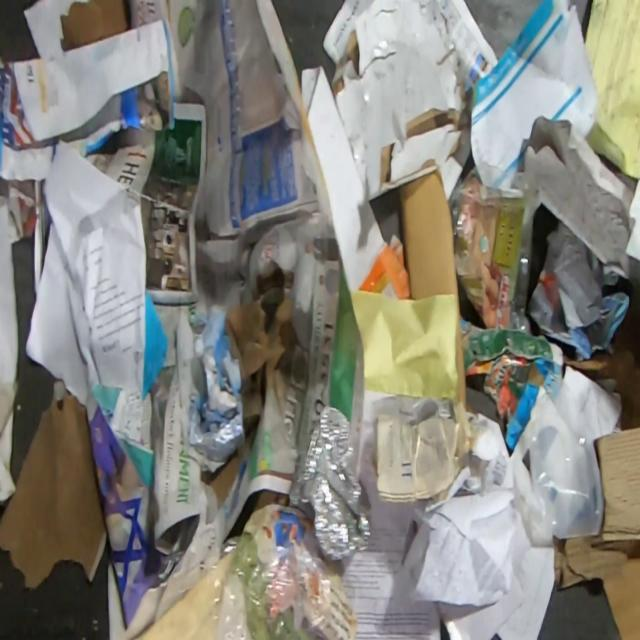cardboard: (330, 0, 468, 409), (554, 426, 640, 640)
metal: (288, 403, 372, 561)
soft_plastic: (162, 518, 333, 640), (448, 160, 542, 335), (528, 375, 604, 539)
